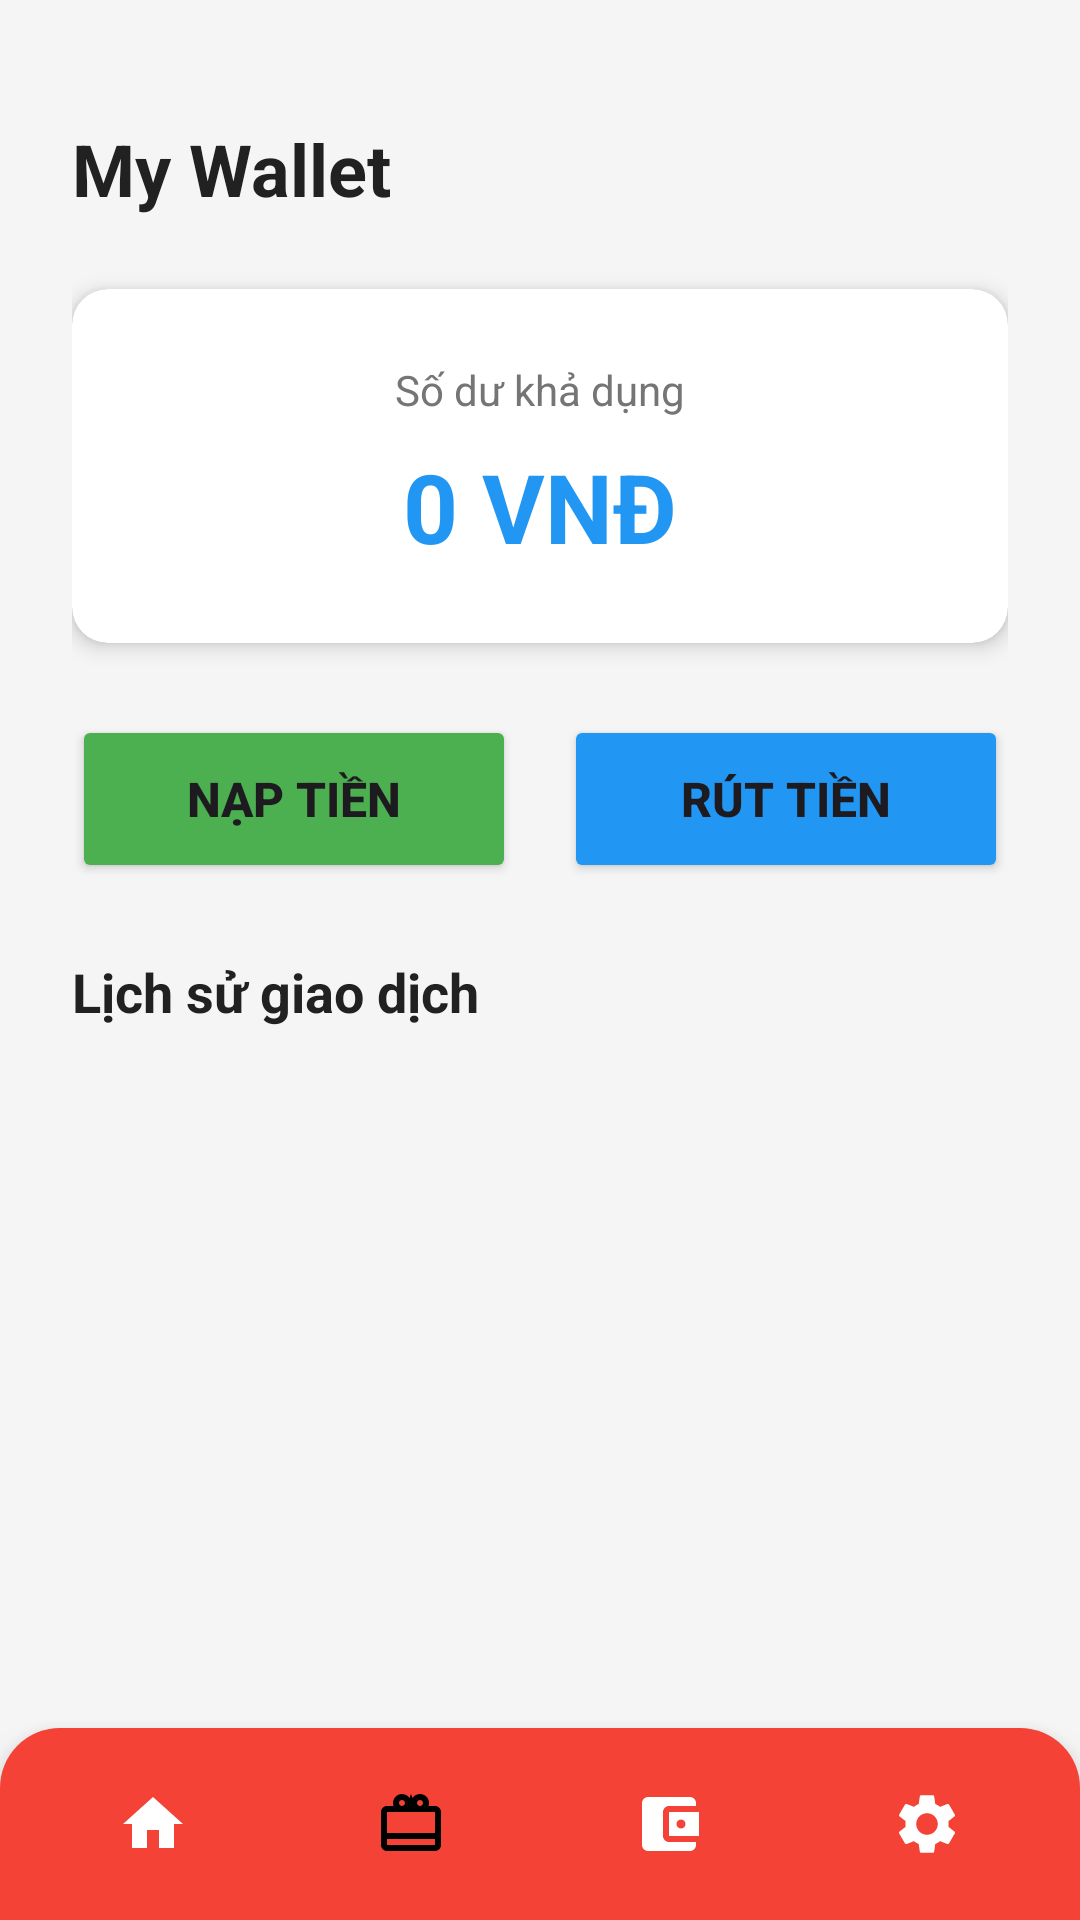

Named icons in this screenshot (1080×1920) and their bounding boxes, [x1, y1, x2, y2]:
Home: [123, 1797, 183, 1848]
Settings: [899, 1795, 955, 1853]
Wallet: [642, 1797, 699, 1851]
